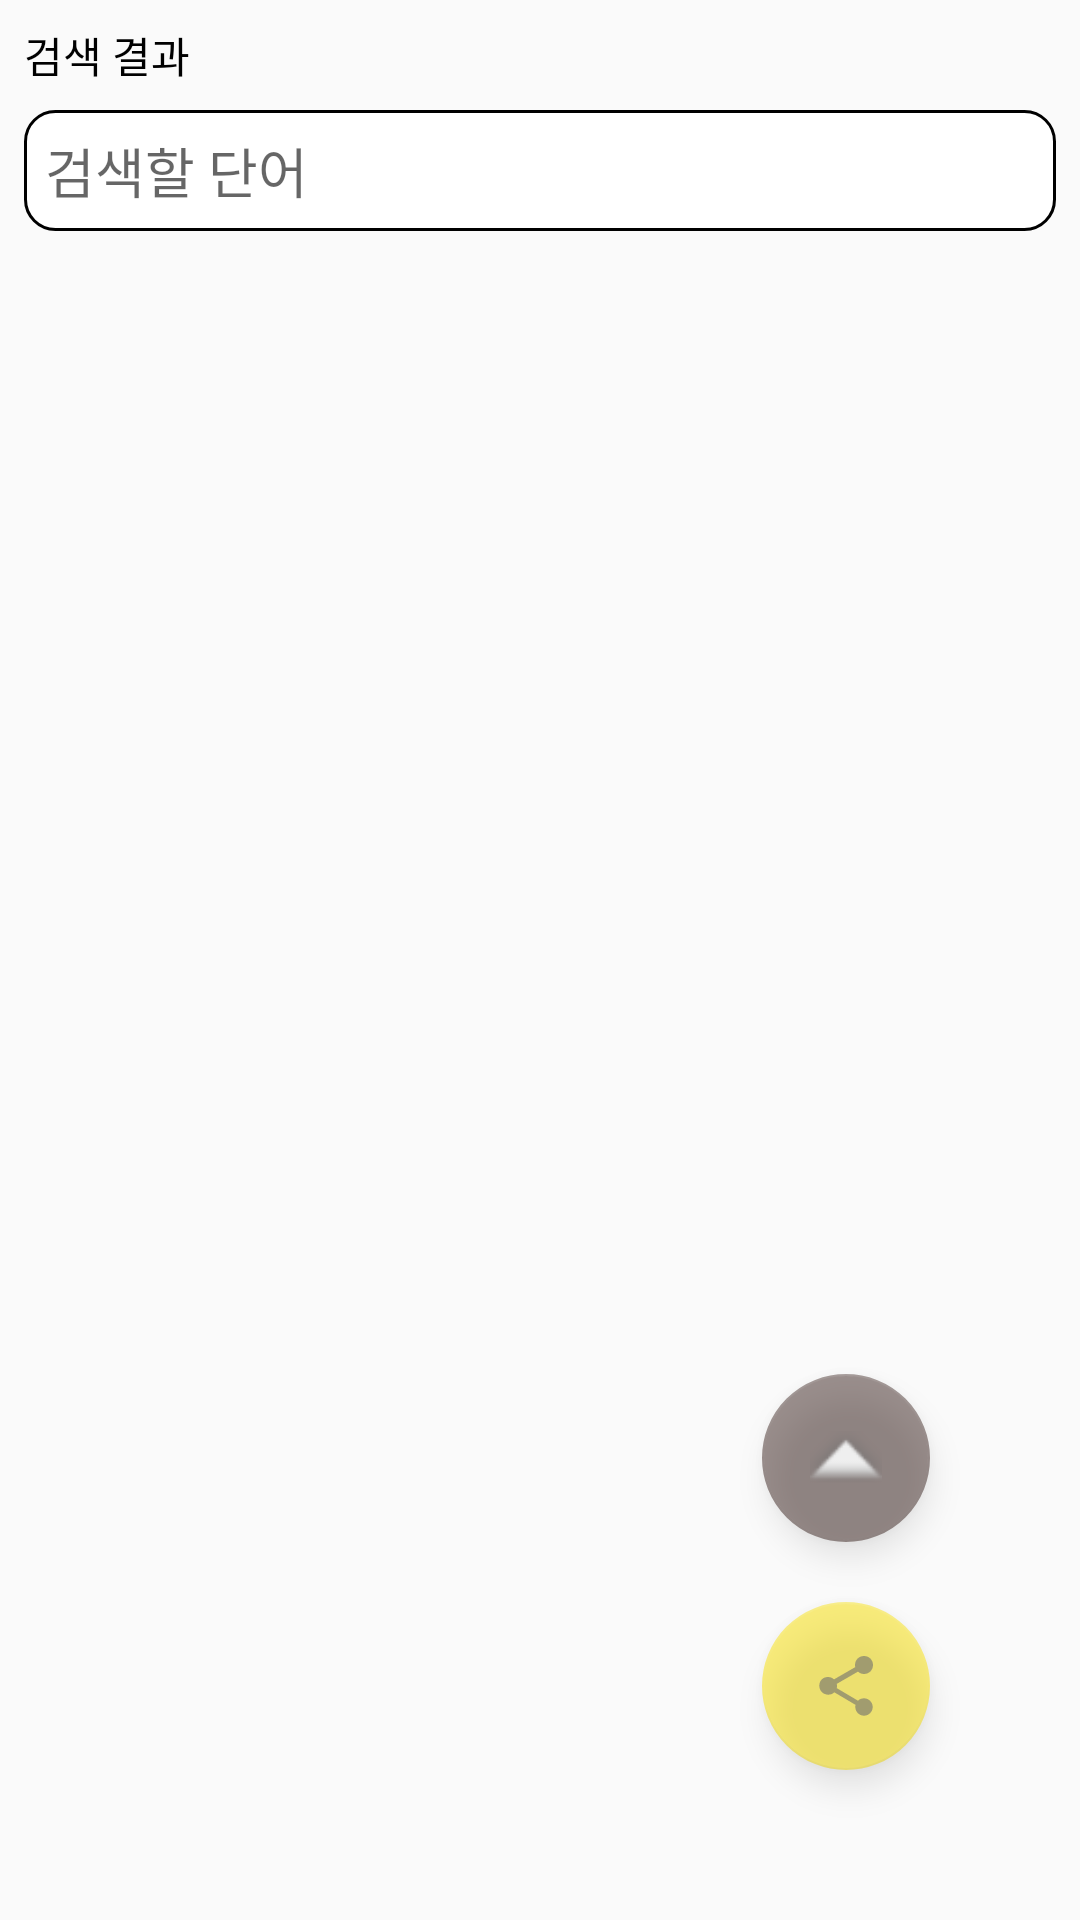

Locate icon controls on the screen. Image size 1080 x 1920, boxes as (x1, y1, x2, y2).
arrow up float: (762, 1374, 930, 1542)
